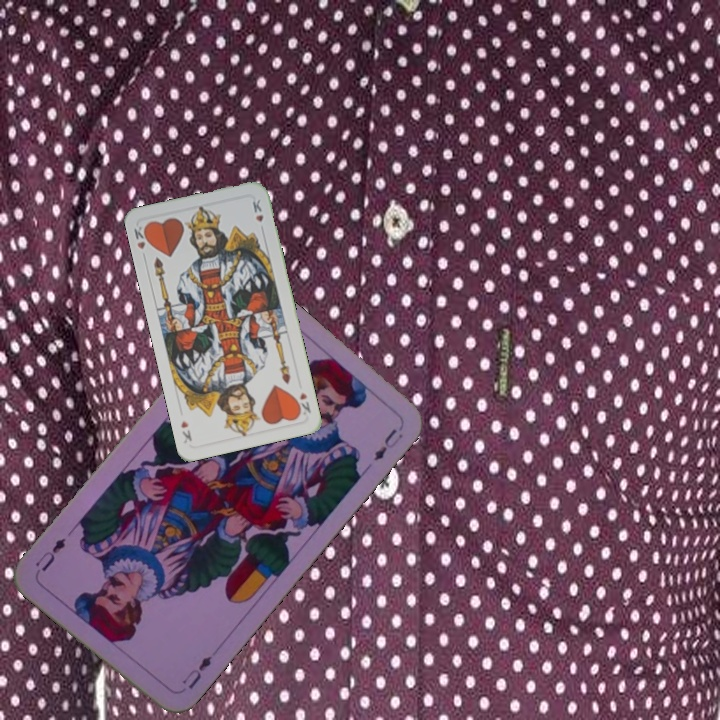EU: (184, 651, 215, 692)
HK: (130, 222, 153, 262), (292, 388, 313, 418)
